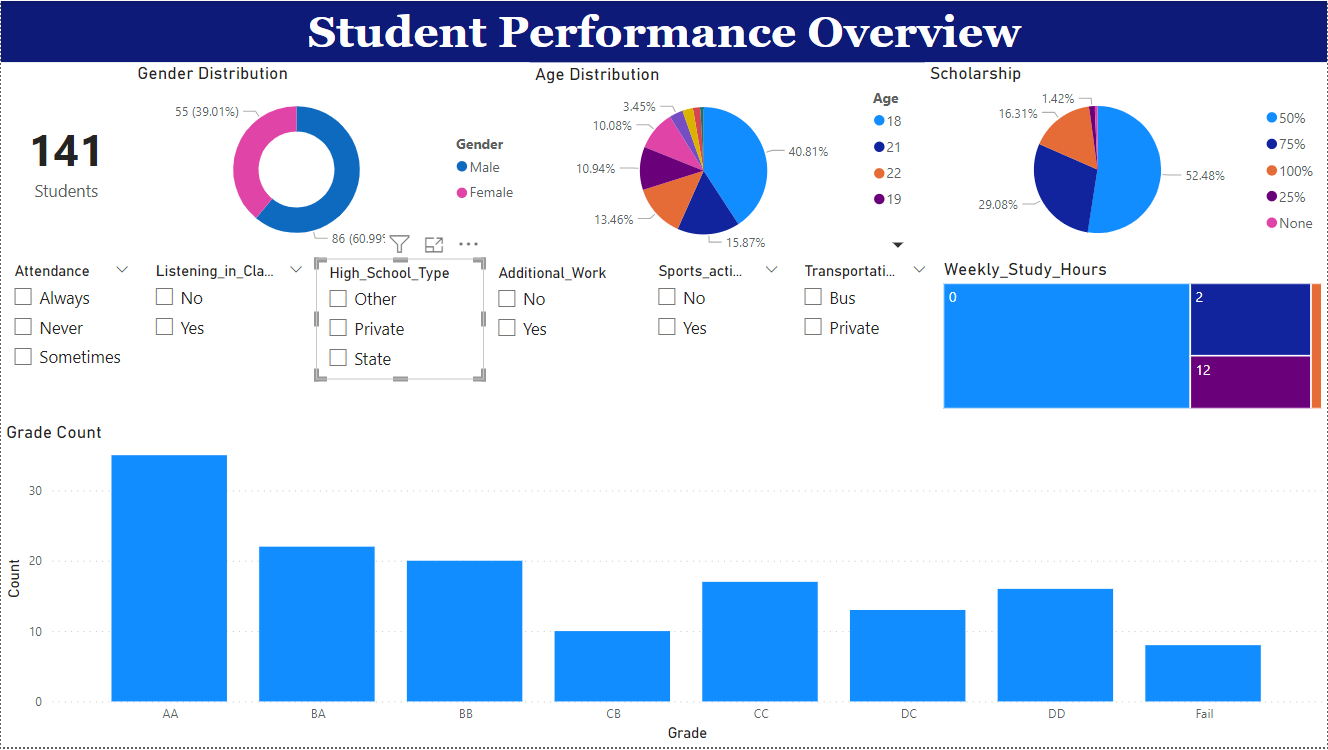

The dashboard page shown, as its layout file describes it:
{"tool":"powerbi","page":{"name":"Page 1","canvas":[1280,720],"ordinal":0},"visuals":[{"type":"textbox","box":[0,0,1280.3,59],"z":0},{"type":"card","fields":{"Values":["CountNonNull(Student Classification Dataset.Id)"]},"box":[0,59.1,126.4,188.2],"z":1000},{"type":"donutChart","title":"Gender Distribution","fields":{"Y":["CountNonNull(Student Classification Dataset.Sex)"],"Category":["Student Classification Dataset.Sex"]},"box":[126.4,59.1,383.3,188.2],"z":2000},{"type":"pieChart","title":"Age Distribution","fields":{"Y":["Sum(Student Classification Dataset.Student_Age)"],"Category":["Student Classification Dataset.Student_Age"]},"box":[509.6,60.4,381.9,188.2],"z":3000},{"type":"clusteredColumnChart","title":"Grade Count","fields":{"Category":["Student Classification Dataset.Grade"],"Y":["CountNonNull(Student Classification Dataset.Grade)"]},"box":[0,405.2,1280.3,314.6],"z":4000},{"type":"slicer","fields":{"Values":["Student Classification Dataset.Attendance"]},"box":[0,247.3,136,118.1],"z":5000},{"type":"slicer","fields":{"Values":["Student Classification Dataset.Listening_in_Class"]},"box":[136,247.3,167.6,149.7],"z":6000},{"type":"pieChart","title":"Scholarship","fields":{"Y":["CountNonNull(Student Classification Dataset.Scholarship)"],"Category":["Student Classification Dataset.Scholarship"]},"box":[891.5,59.1,388.8,188.2],"z":7000},{"type":"slicer","fields":{"Values":["Student Classification Dataset.High_School_Type"]},"box":[303.6,248.6,163.5,116.8],"z":8000},{"type":"slicer","fields":{"Values":["Student Classification Dataset.Additional_Work"]},"box":[467.1,248.6,153.9,111.3],"z":9000},{"type":"slicer","fields":{"Values":["Student Classification Dataset.Sports_activity"]},"box":[620.9,247.3,141.5,112.6],"z":10000},{"type":"slicer","fields":{"Values":["Student Classification Dataset.Transportation"]},"box":[762.4,247.3,142.9,112.6],"z":11000},{"type":"treemap","title":"Weekly_Study_Hours","fields":{"Details":["Student Classification Dataset.Weekly_Study_Hours"],"Values":["CountNonNull(Student Classification Dataset.Weekly_Study_Hours)"]},"box":[905,248,375,150],"z":12000}]}

Visuals, with their boxes in screenshot pixels (x1, y1, x2, y2), scaled from the page's 1280x720 canvas onto the 1328x750 screenshot:
textbox: bbox=[0, 0, 1327, 61]
card - CountNonNull(Student Classification Dataset.Id): bbox=[0, 62, 131, 258]
"Gender Distribution" donutChart: bbox=[131, 62, 529, 258]
"Age Distribution" pieChart: bbox=[529, 63, 925, 259]
"Grade Count" clusteredColumnChart: bbox=[0, 422, 1327, 749]
slicer - Student Classification Dataset.Attendance: bbox=[0, 258, 141, 381]
slicer - Student Classification Dataset.Listening_in_Class: bbox=[141, 258, 315, 414]
"Scholarship" pieChart: bbox=[925, 62, 1327, 258]
slicer - Student Classification Dataset.High_School_Type: bbox=[315, 259, 485, 381]
slicer - Student Classification Dataset.Additional_Work: bbox=[485, 259, 644, 375]
slicer - Student Classification Dataset.Sports_activity: bbox=[644, 258, 791, 375]
slicer - Student Classification Dataset.Transportation: bbox=[791, 258, 939, 375]
"Weekly_Study_Hours" treemap: bbox=[939, 258, 1327, 415]
